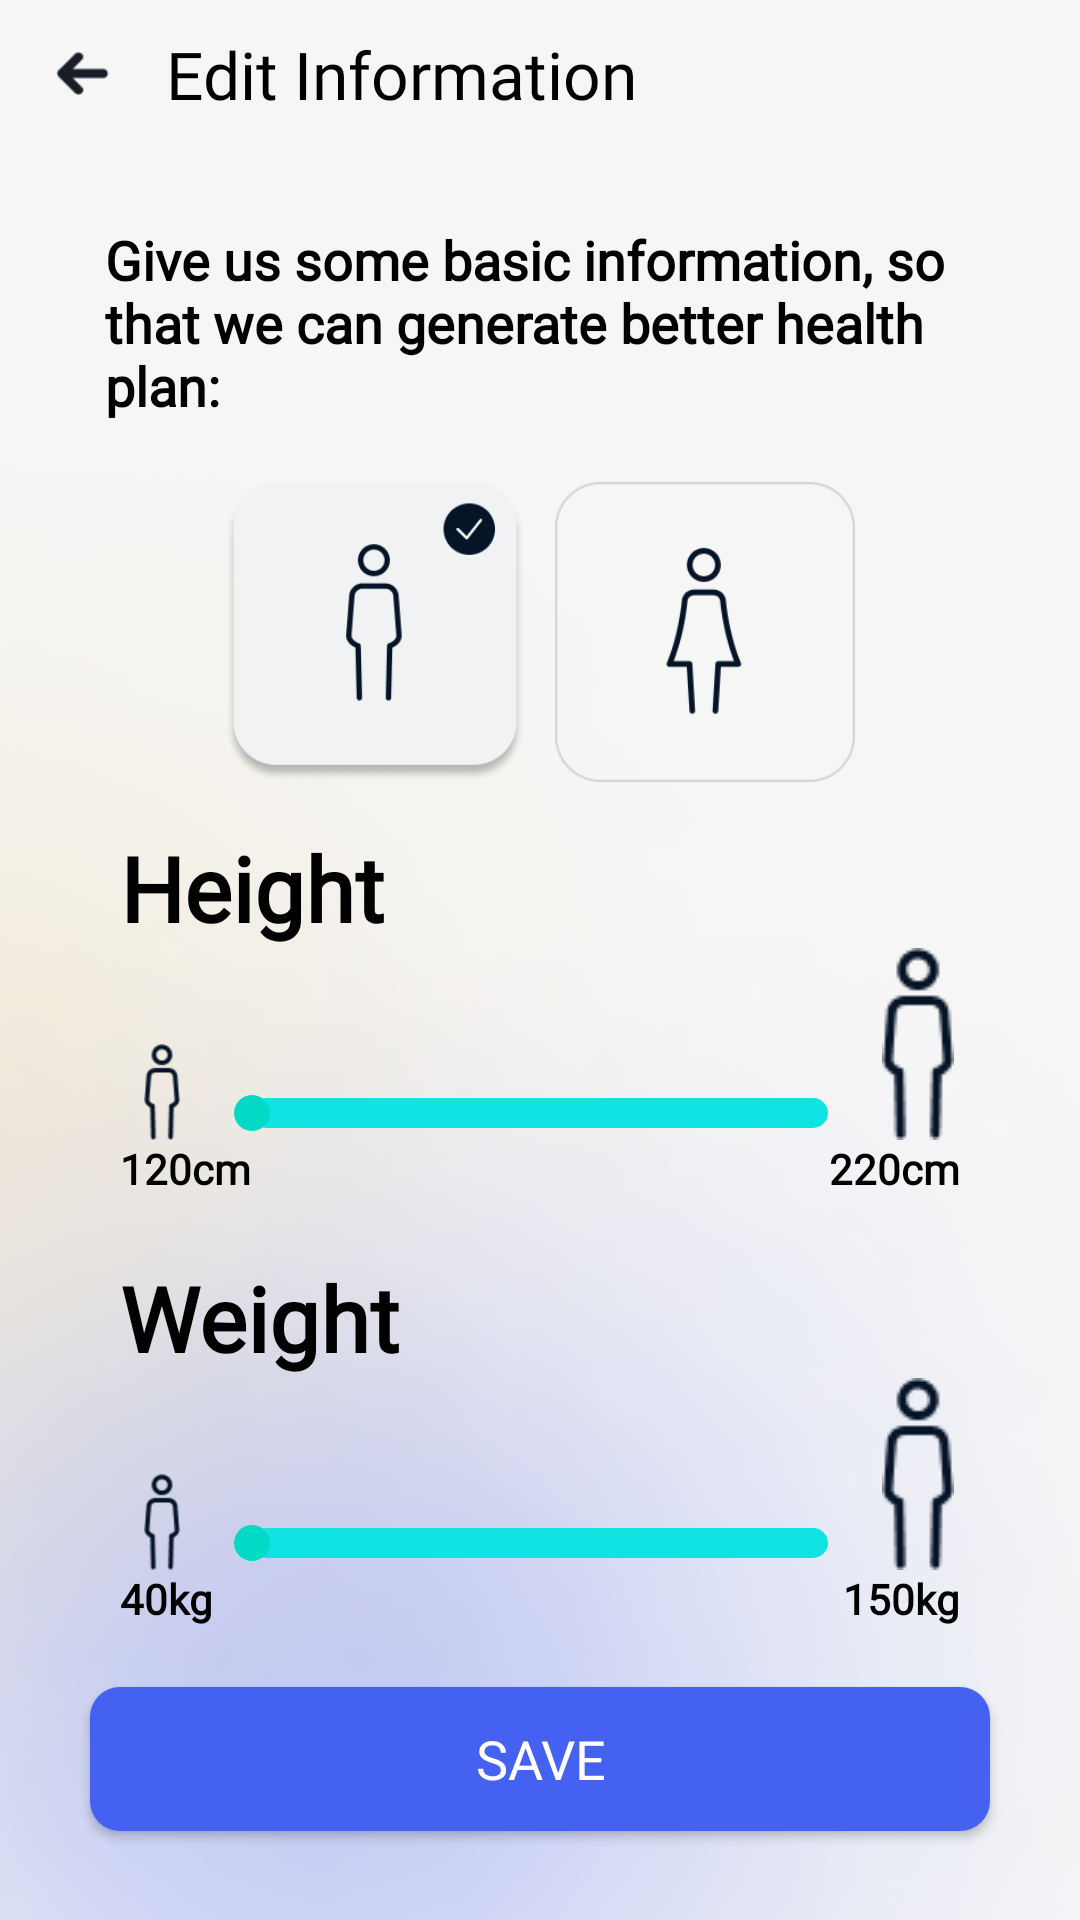

Named icons in this screenshot (1080*1920) and their centers, [x,y]:
edit body: [918,1044], [162,1092], [918,1474], [162,1522]
edit gender: [705,632], [374,639]
